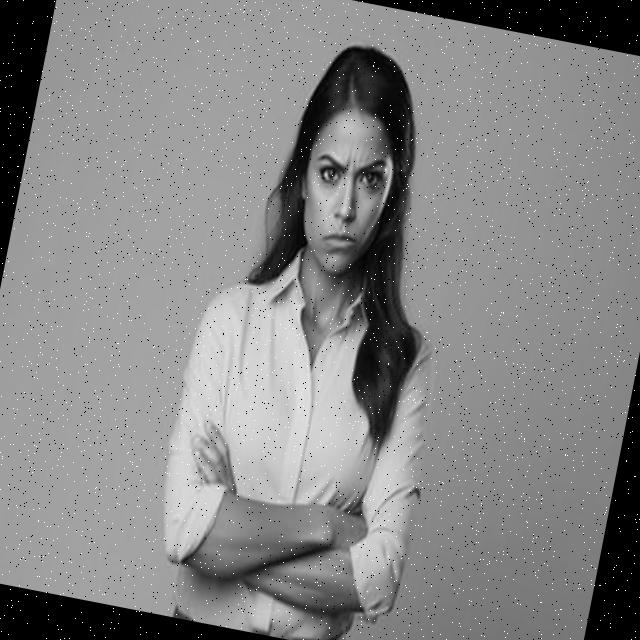Angry: (290, 110, 402, 282)
